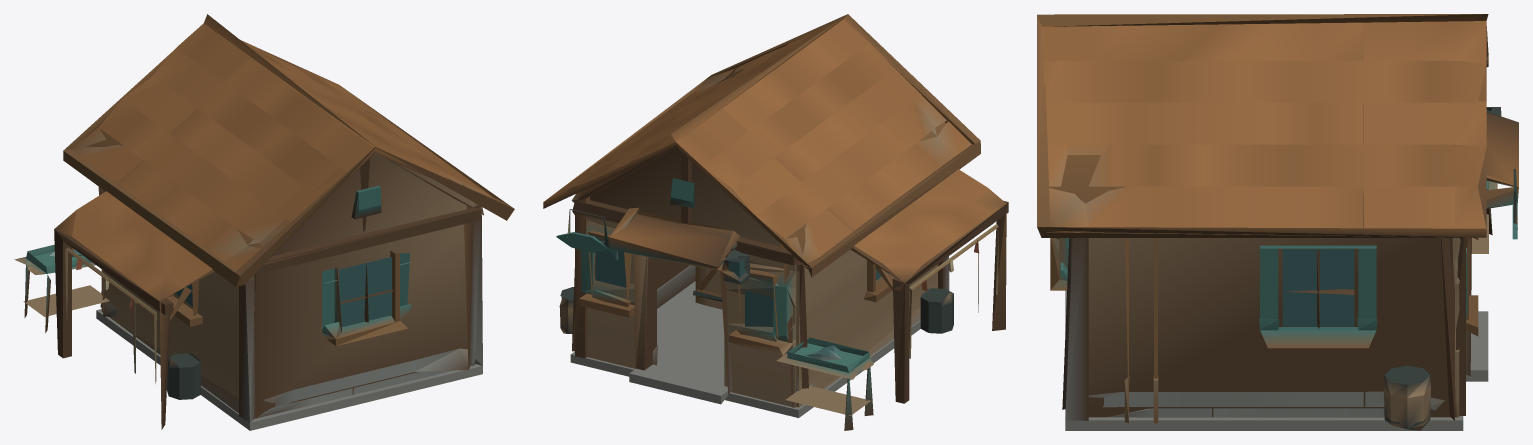
Rendered from FishermansHut.glb.
3 views of the same model, side by side, from view 1: azimuth 30°, elevation 25°; view 2: azimuth 150°, elevation 25°; view 3: azimuth 270°, elevation 25° (orthographic). The views are drawn at different scales.
Parts seen in each view (by area): view 1: FishermansHut_P0_LOD1, FishermansHutGlass_P0_LOD1; view 2: FishermansHut_P0_LOD1, FishermansHutGlass_P0_LOD1, FishermansHutDoor_P0_LOD1; view 3: FishermansHut_P0_LOD1, FishermansHutGlass_P0_LOD1.
Boxes of the visible parts, left/top/right/bottom form: FishermansHut_P0_LOD1: left=14, top=14, right=514, bottom=430; FishermansHutGlass_P0_LOD1: left=175, top=256, right=391, bottom=326; FishermansHut_P0_LOD1: left=543, top=14, right=1008, bottom=430; FishermansHutGlass_P0_LOD1: left=595, top=249, right=886, bottom=326; FishermansHutDoor_P0_LOD1: left=693, top=266, right=722, bottom=309; FishermansHut_P0_LOD1: left=1037, top=14, right=1518, bottom=430; FishermansHutGlass_P0_LOD1: left=1282, top=249, right=1354, bottom=326.
Bounding box in the file's own units: 6.09 × 4.59 × 5.79.
